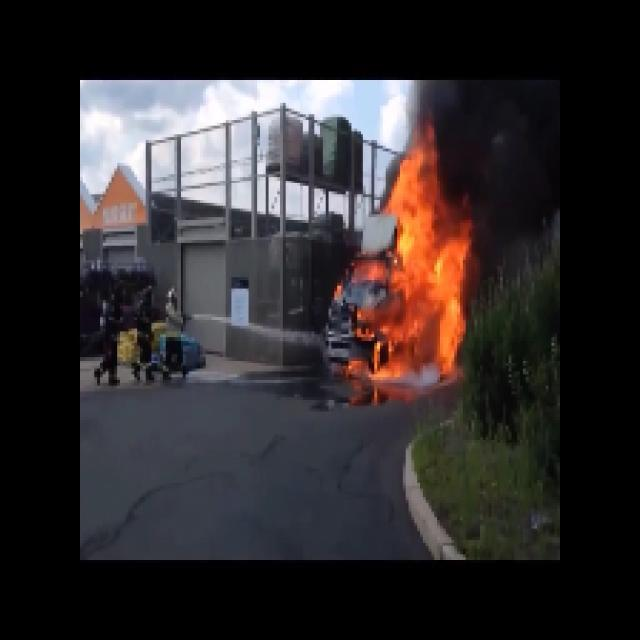Fire: (372, 140, 468, 389)
Smoke: (457, 80, 557, 220)
